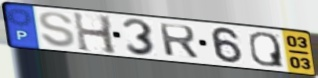3: (121, 17, 157, 57)
6: (209, 26, 246, 65)
H: (71, 11, 120, 56)
Q: (247, 31, 286, 69)
R: (157, 22, 201, 61)
S: (38, 11, 78, 49)
